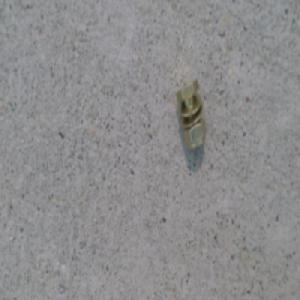BoltNutSet: (177, 78, 206, 152)
